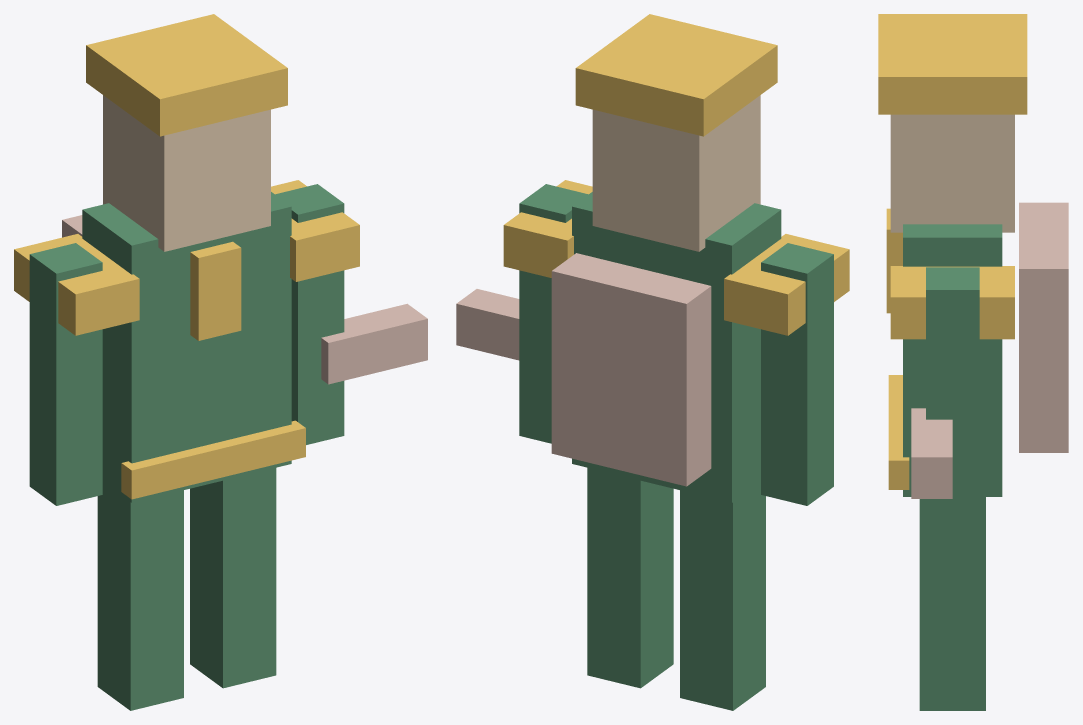
File: 05_nyra_emberkin_keeper_under.glb
3 renders of one model, left to right at view 1: azimuth 30°, elevation 25°; view 2: azimuth 150°, elevation 25°; view 3: azimuth 270°, elevation 25°, orthographic.
Visible parts, largest first — view 1: Nyra Emberkin, Keeper under; view 2: Nyra Emberkin, Keeper under; view 3: Nyra Emberkin, Keeper under.
Part boxes in pixels (left/top/right/bottom): Nyra Emberkin, Keeper under: left=14, top=14, right=427, bottom=710; Nyra Emberkin, Keeper under: left=456, top=14, right=849, bottom=710; Nyra Emberkin, Keeper under: left=878, top=14, right=1068, bottom=710.
Size of the model in its own units: 0.982 by 1.61 by 0.4407.
